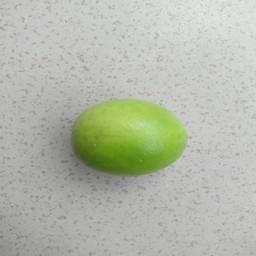Good_lime: (65, 96, 190, 181)
